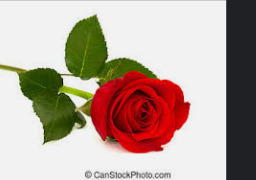RedRose: (91, 73, 189, 152)
